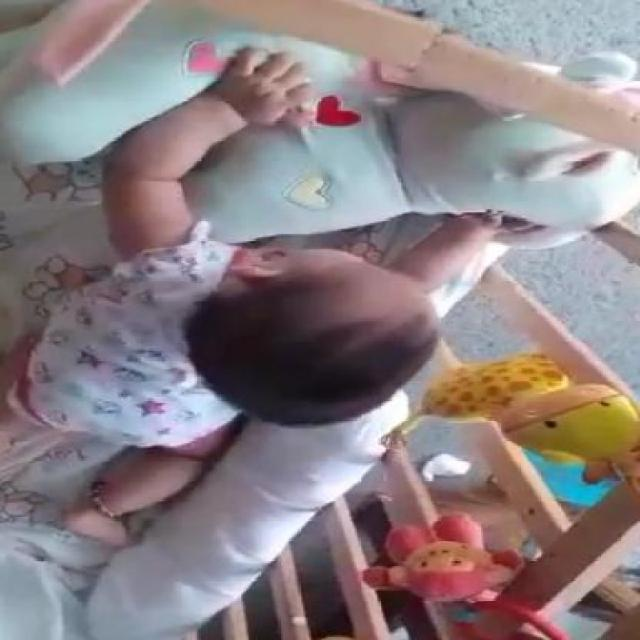baby: (0, 43, 492, 538)
